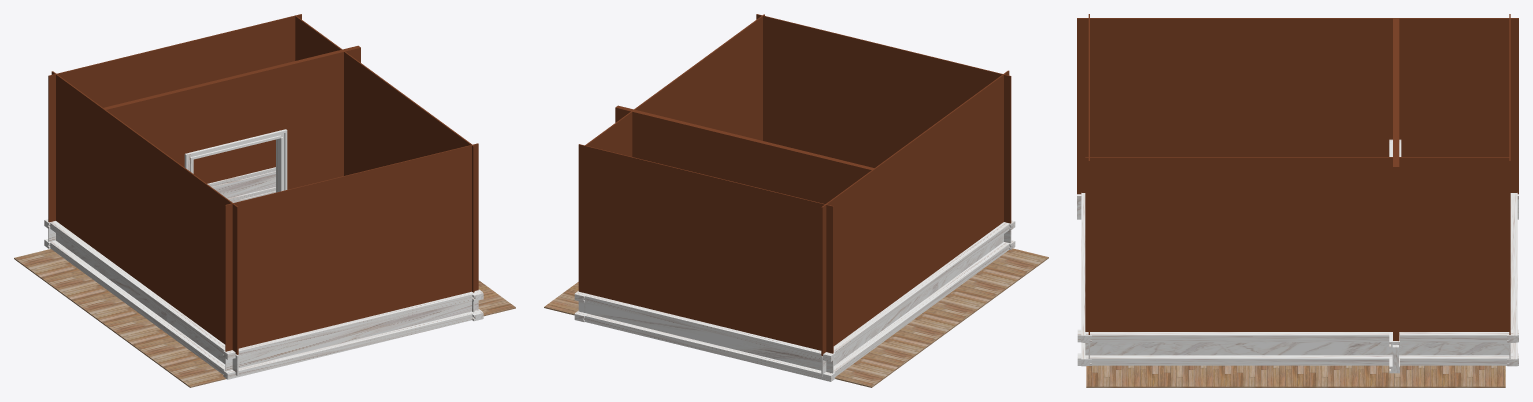
The model's file is Interiors_SquareRoom_Red.glb.
3 views of the same model, side by side, from view 1: azimuth 30°, elevation 25°; view 2: azimuth 150°, elevation 25°; view 3: azimuth 270°, elevation 25° (orthographic). The views are drawn at different scales.
Visible parts, largest first — view 1: Wall L.001, Wall B, Wall R, Wall R.001, Wall F, Floor, Wall L.002, Cube.009, Cube.014, Cube.012, Cube.011, Cube.005 (+3 smaller); view 2: Wall R.001, Wall B, Wall L.001, Wall R, Wall F, Floor, Wall R.002, Cube.018, Cube.017, Cube.012, Cube.011, Wall B.001; view 3: Wall F, Wall B, Floor, Wall F.001, Cube.010, Cube.013, Wall R, Cube.017, Cube.014, Wall R.001, Wall L.001.
Part boxes in pixels (box(x1,y1,x2,y2)): Wall L.001: box(225, 143, 478, 351); Wall B: box(51, 71, 238, 354); Wall R: box(104, 45, 360, 189); Wall R.001: box(48, 14, 301, 222); Wall F: box(295, 15, 474, 292); Floor: box(14, 249, 515, 387); Wall L.002: box(225, 300, 478, 371); Cube.009: box(223, 309, 482, 379); Cube.014: box(223, 289, 482, 359); Cube.012: box(49, 221, 233, 354); Cube.011: box(49, 240, 232, 374); Cube.005: box(184, 129, 287, 192); Wall R.001: box(578, 144, 833, 353); Wall B: box(821, 70, 1009, 355); Wall L.001: box(756, 14, 1011, 223); Wall R: box(615, 105, 874, 203); Wall F: box(584, 14, 764, 292); Floor: box(544, 248, 1048, 387); Wall R.002: box(578, 301, 833, 373); Cube.018: box(574, 310, 835, 381); Cube.017: box(574, 291, 835, 361); Cube.012: box(825, 222, 1009, 357); Cube.011: box(825, 242, 1009, 376); Wall B.001: box(821, 234, 1003, 377); Wall F: box(1085, 157, 1509, 331); Wall B: box(1077, 18, 1518, 194); Floor: box(1086, 365, 1505, 387); Wall F.001: box(1085, 342, 1509, 355); Cube.010: box(1077, 353, 1518, 365); Cube.013: box(1077, 329, 1518, 342); Wall R: box(1393, 18, 1399, 340); Cube.017: box(1507, 193, 1517, 342); Cube.014: box(1081, 193, 1091, 342); Wall R.001: box(1509, 14, 1510, 334); Wall L.001: box(1088, 14, 1089, 334).
Size of the model in its own units: 38.95 by 19.77 by 38.45.
Materials: 17 (16 with a texture image).
